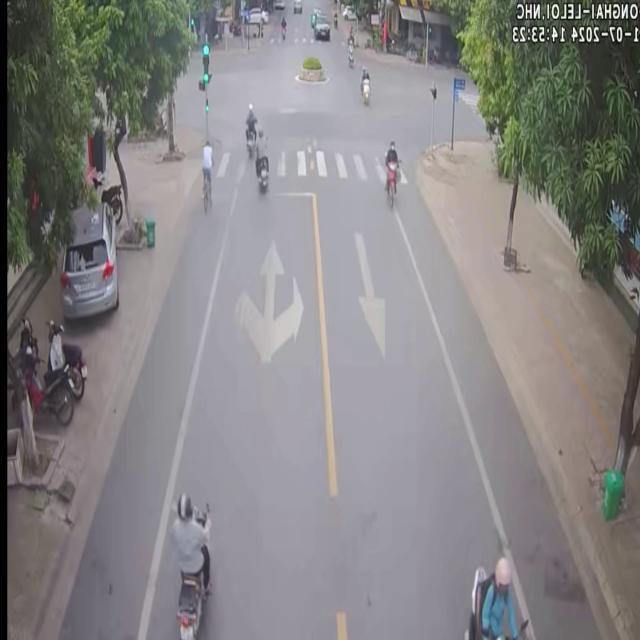car: (58, 194, 117, 318)
green_light: (201, 40, 209, 85)
motobike: (14, 316, 73, 422), (168, 491, 209, 638), (467, 556, 517, 638), (46, 318, 86, 398), (382, 145, 395, 203), (243, 92, 255, 153), (355, 54, 365, 100)
stop_line: (200, 189, 313, 196)
